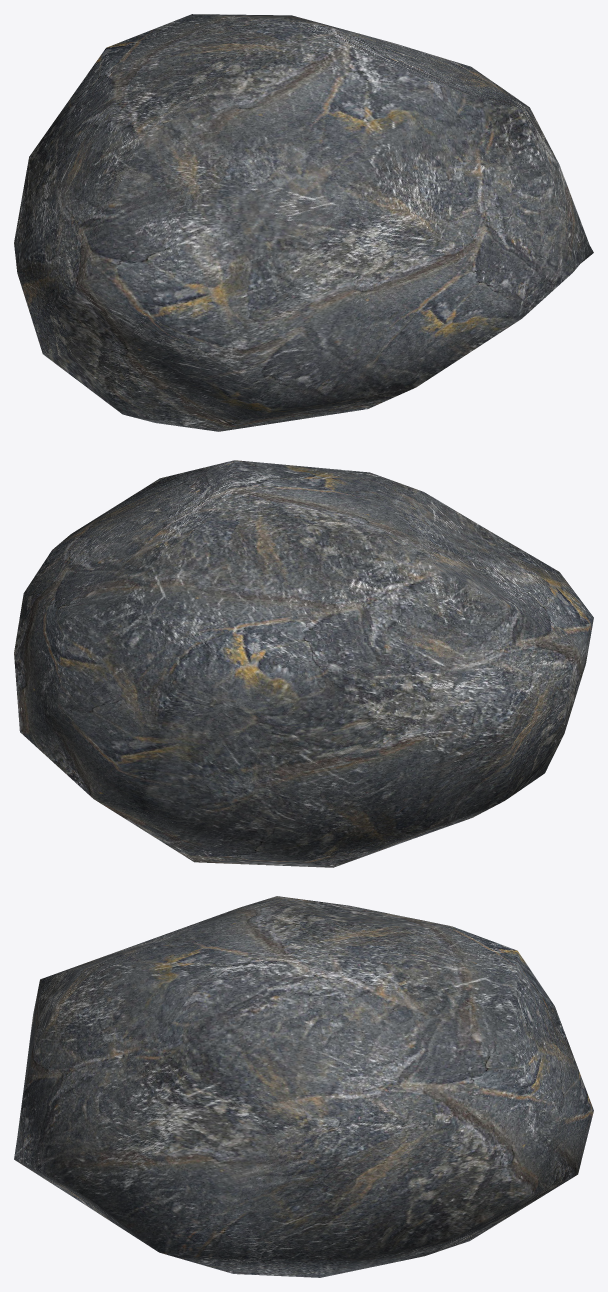
Rendered from rock2.obj.
3 renders of one model, top to bottom at view 1: azimuth 30°, elevation 25°; view 2: azimuth 150°, elevation 25°; view 3: azimuth 270°, elevation 25°, orthographic. The views are drawn at different scales.
Visible parts, largest first — view 1: rock_01; view 2: rock_01; view 3: rock_01.
Part boxes in pixels (x1=…): rock_01: x1=14, y1=14, x2=593, y2=431; rock_01: x1=14, y1=460, x2=593, y2=867; rock_01: x1=14, y1=896, x2=593, y2=1277.
Bounding box in the file's own units: 6 × 3.4 × 6.
